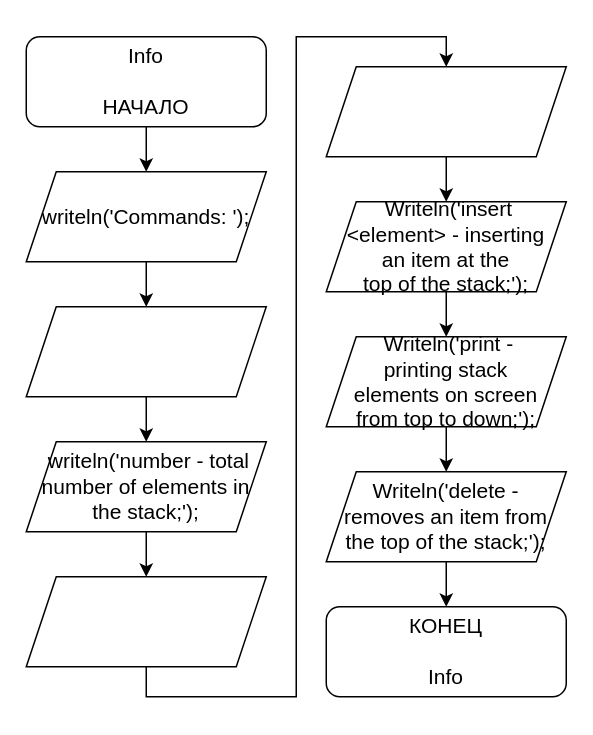
Some shapes in this 593 by 735 pixel diagram are drawn without their labels. The shapes that lost their labels are listed below. From the top down, each one's centre as x and y in pixels, then its label:
At (445,111): "Writeln('clear - clear the stack;');".
At (145,351): "writeln('help - shaw all commands;');".
At (145,621): "Writeln('exit - exit the program;');".
